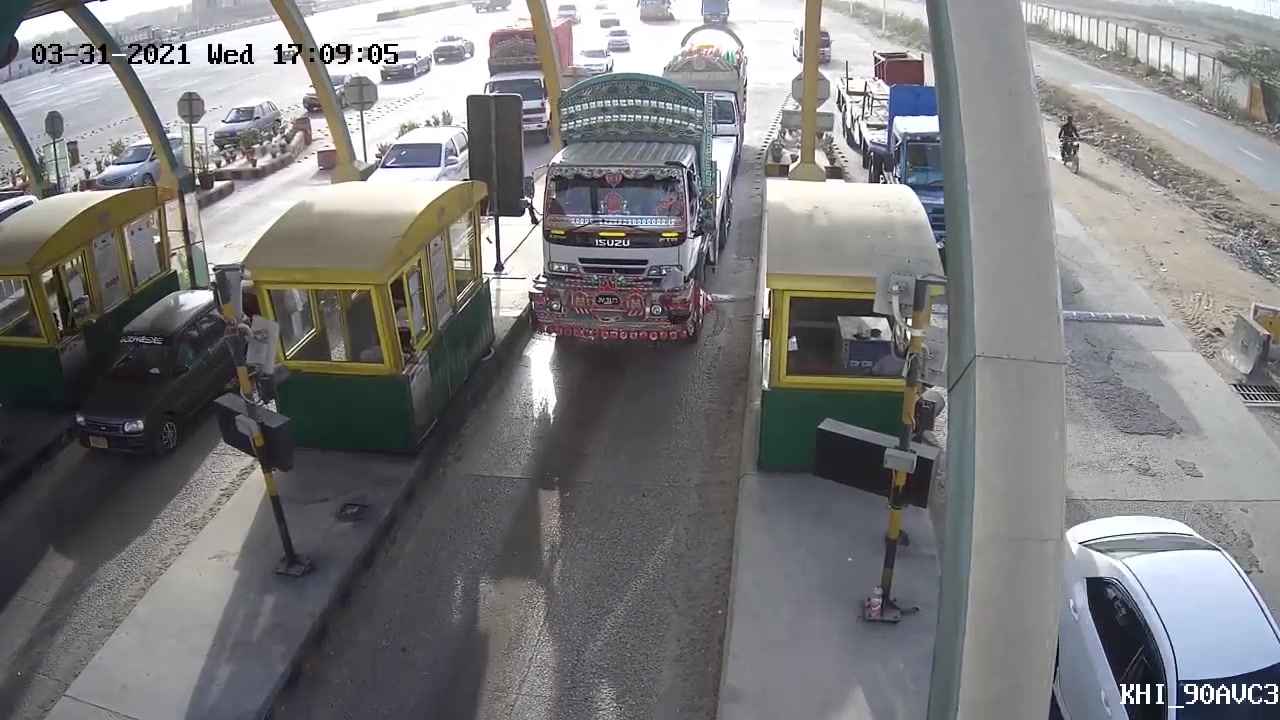F5: (525, 67, 742, 361)
